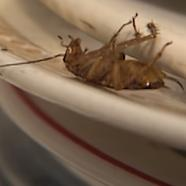cockroach: (59, 31, 168, 92)
